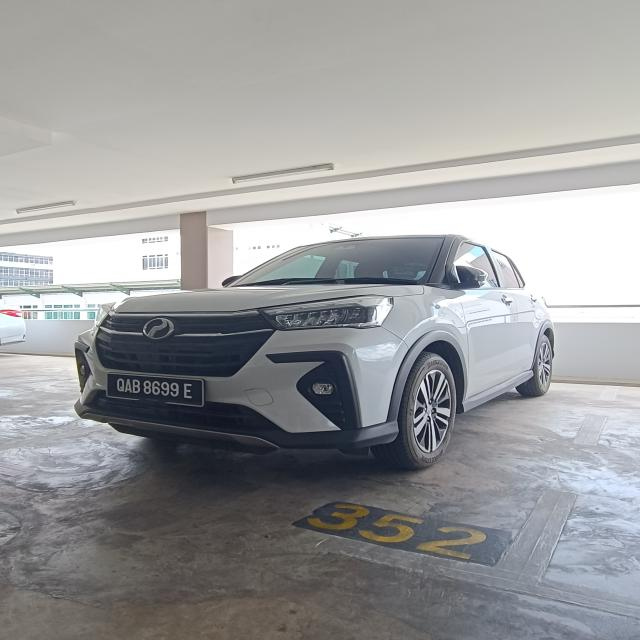PeroduaAtiva: (72, 232, 556, 470)
